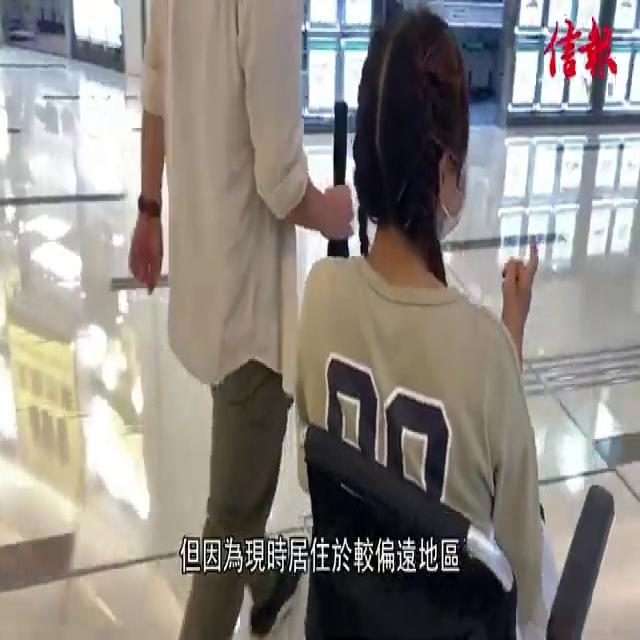wheelchairs: (292, 386, 620, 640)
